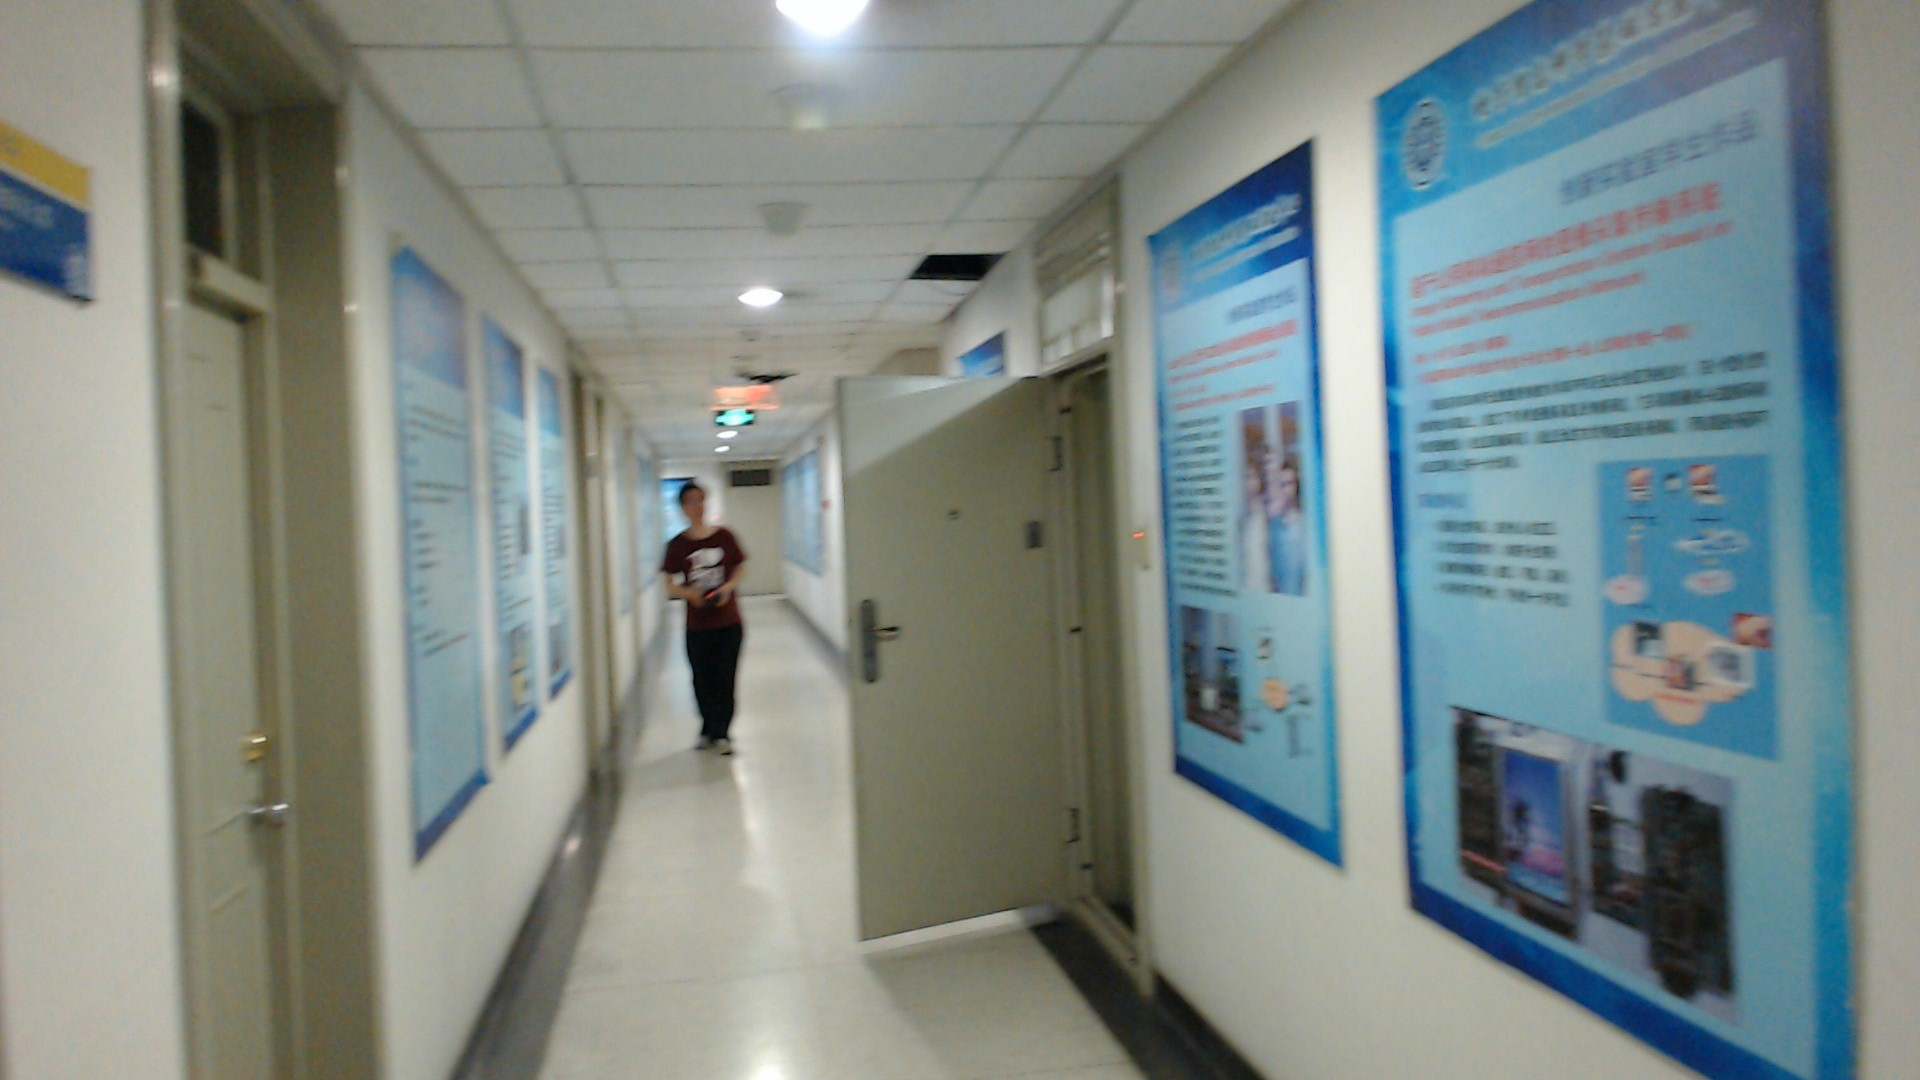human: (657, 473, 759, 766)
test_drone: (729, 357, 805, 396)
